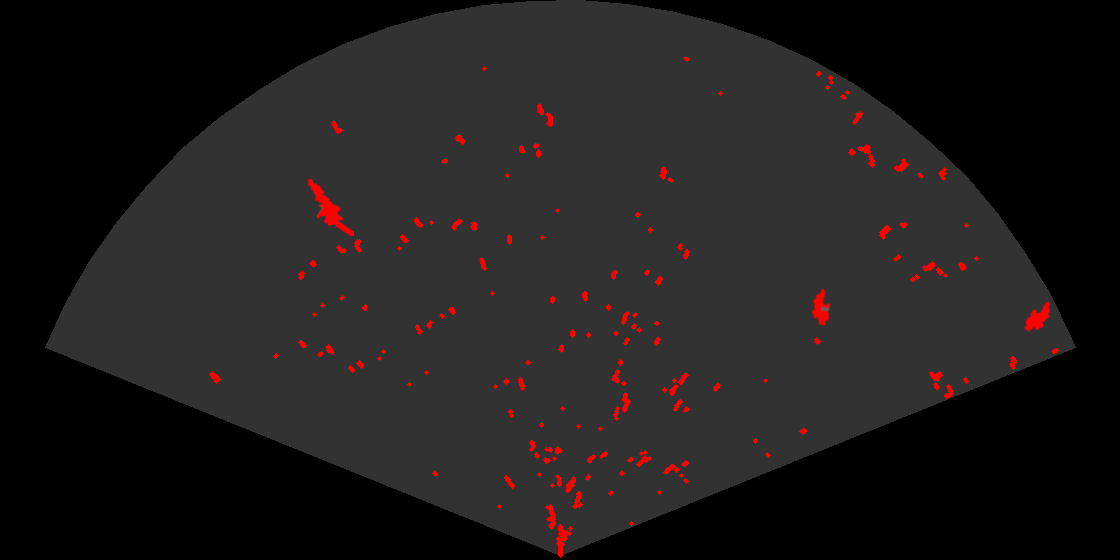AUV: (1023, 300, 1052, 333), (810, 287, 832, 328)
frogman: (306, 177, 354, 236)
